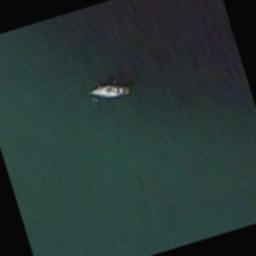boat: (82, 75, 134, 108)
